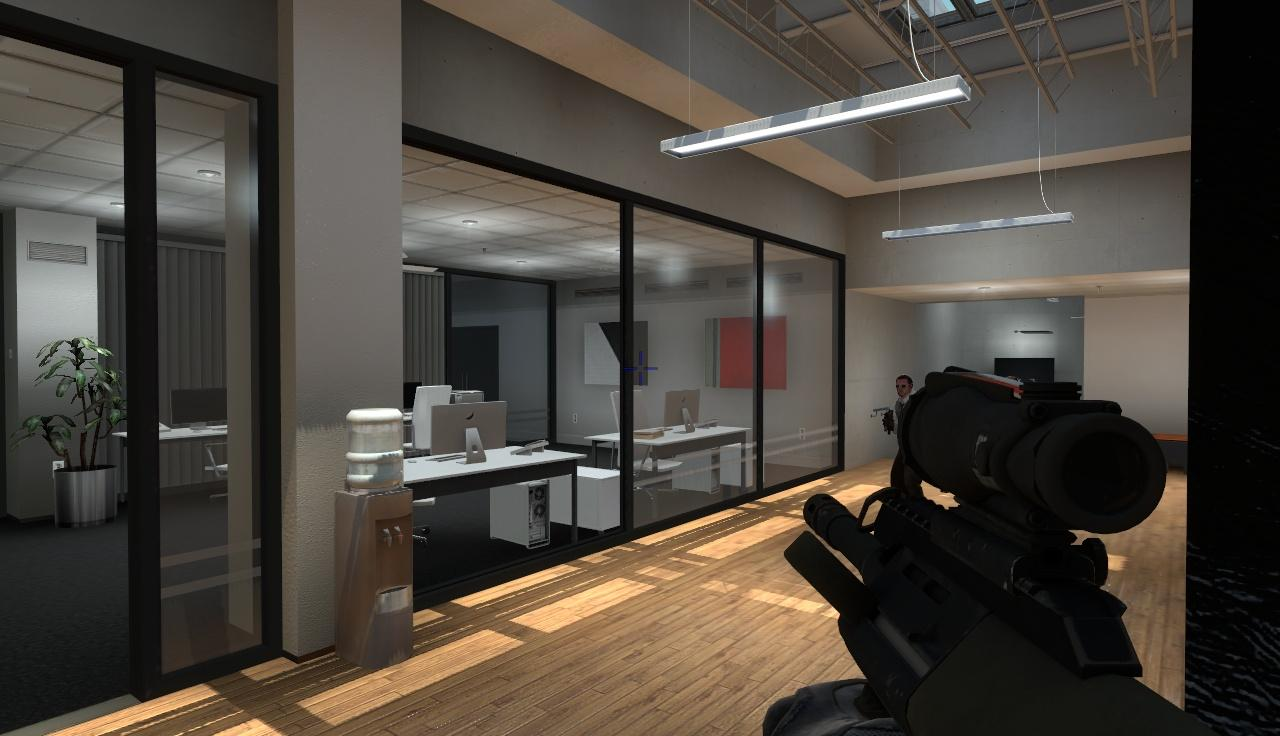rifle: (801, 366, 1223, 736)
tt: (895, 374, 913, 397)
